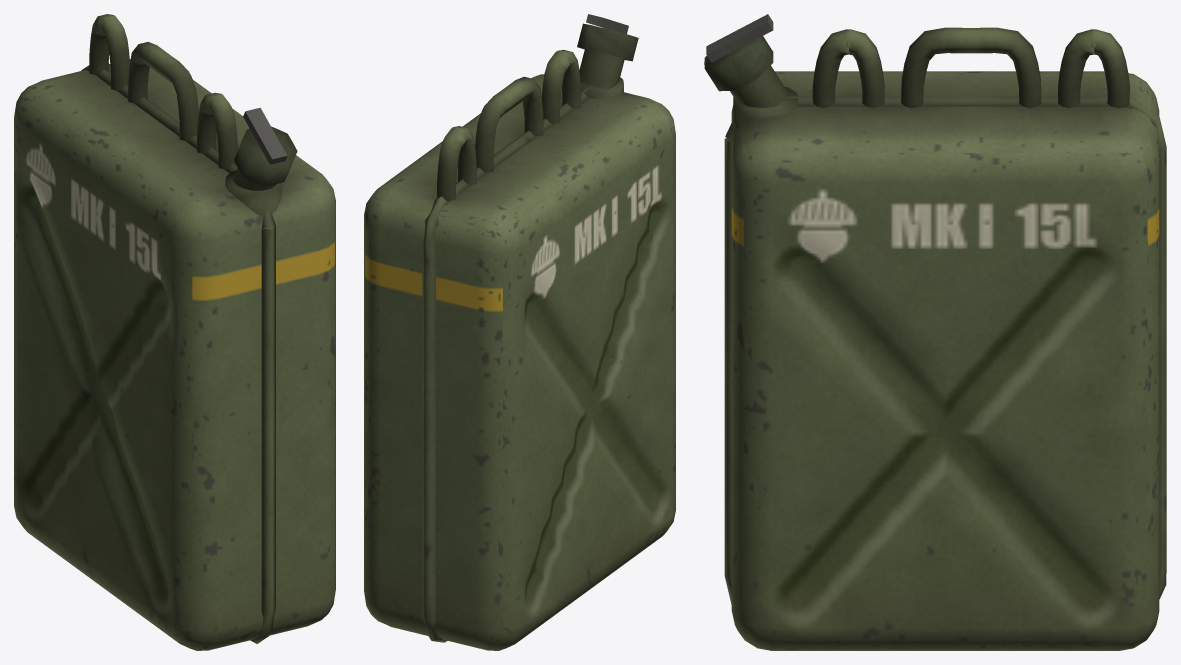
File: OA_FuelCanMk1_Ground.fbx
3 views of the same model, side by side, from view 1: azimuth 30°, elevation 25°; view 2: azimuth 150°, elevation 25°; view 3: azimuth 270°, elevation 25° (orthographic). The views are drawn at different scales.
Parts seen in each view (by area): view 1: OA_FuelCanMk1_Ground; view 2: OA_FuelCanMk1_Ground; view 3: OA_FuelCanMk1_Ground.
Part boxes in pixels (bbox=[...]): OA_FuelCanMk1_Ground: bbox=[14, 14, 335, 650]; OA_FuelCanMk1_Ground: bbox=[364, 14, 675, 650]; OA_FuelCanMk1_Ground: bbox=[704, 14, 1166, 650].
Size of the model in its own units: 0.2056 by 0.6535 by 0.4503.
